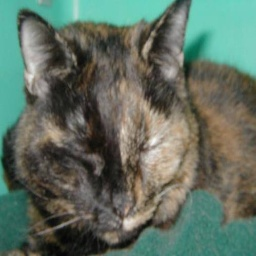cat: (3, 7, 256, 255)
